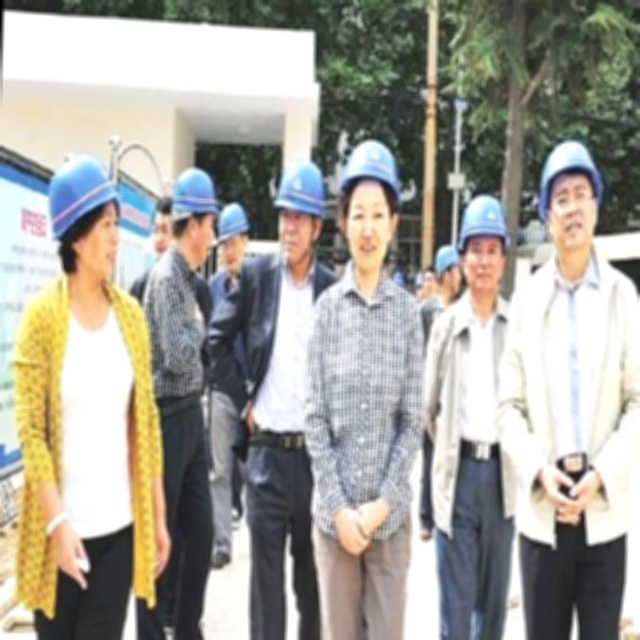Con_Casco: (344, 138, 399, 248), (550, 138, 599, 247), (459, 190, 509, 288)
Sin_Chaleco: (505, 255, 640, 546), (20, 284, 150, 545), (309, 275, 420, 514)
